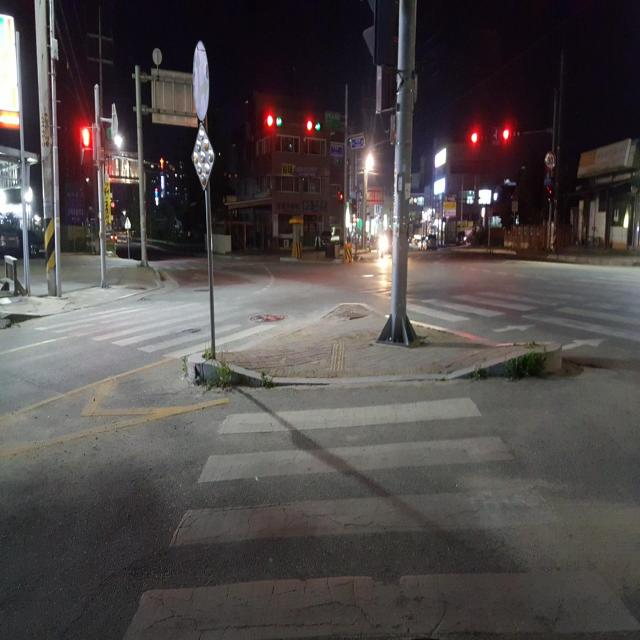빨간불: (79, 125, 93, 172), (545, 183, 555, 210), (338, 190, 344, 214)
횡단보도: (118, 391, 639, 640), (404, 268, 640, 366), (33, 304, 306, 364)
